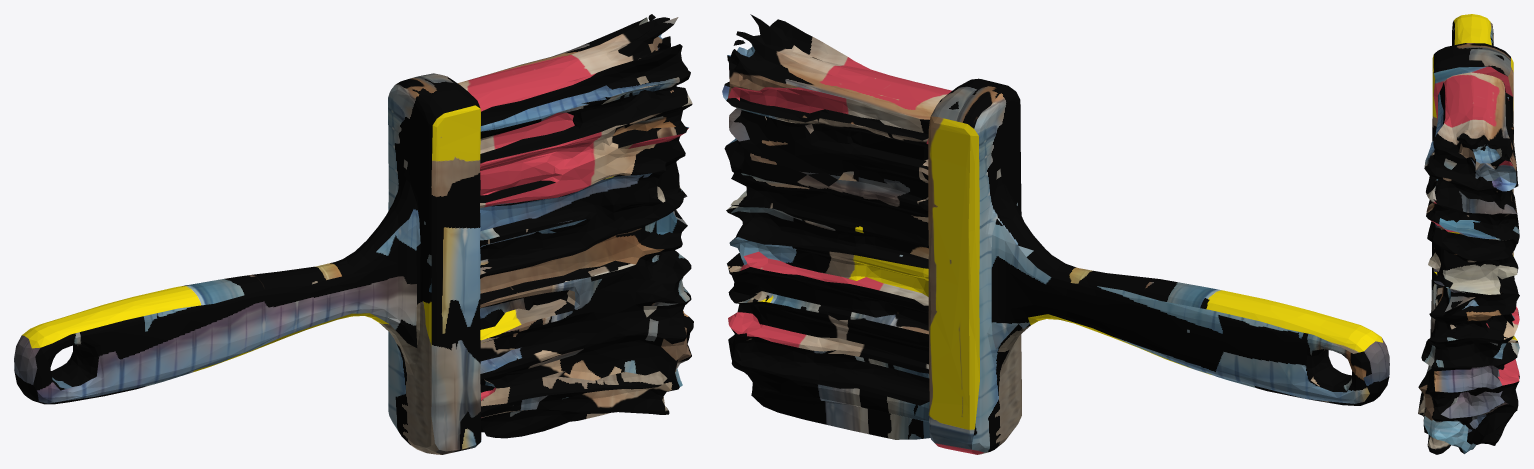
Rendered from blue_brush.obj.
3 views of the same model, side by side, from view 1: azimuth 30°, elevation 25°; view 2: azimuth 150°, elevation 25°; view 3: azimuth 270°, elevation 25° (orthographic). The views are drawn at different scales.
Parts seen in each view (by area): view 1: blue_brush.obj; view 2: blue_brush.obj; view 3: blue_brush.obj.
Part boxes in pixels (x1,y1,x2,y2): blue_brush.obj: [14, 14, 693, 454]; blue_brush.obj: [722, 14, 1389, 454]; blue_brush.obj: [1418, 14, 1519, 454].
Bounding box in the file's own units: 0.2997 × 0.1658 × 0.0468.
